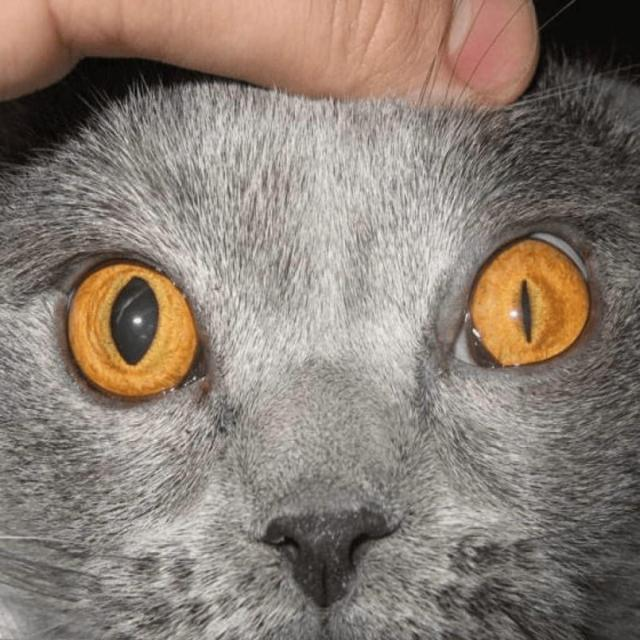cat-eye: (411, 221, 618, 416)
cat-eye-normal: (46, 233, 243, 417)
